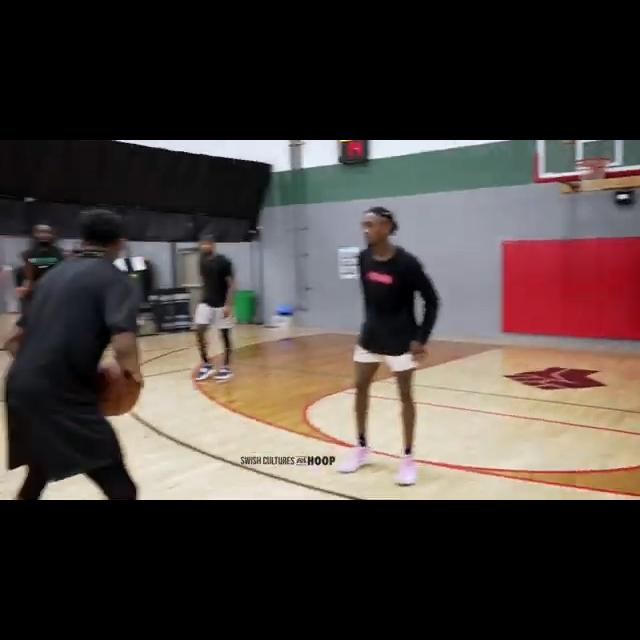basketball: (94, 362, 139, 419)
hoop: (575, 158, 613, 192)
person: (4, 207, 137, 500), (338, 203, 439, 485), (186, 228, 243, 385), (12, 219, 67, 358)
